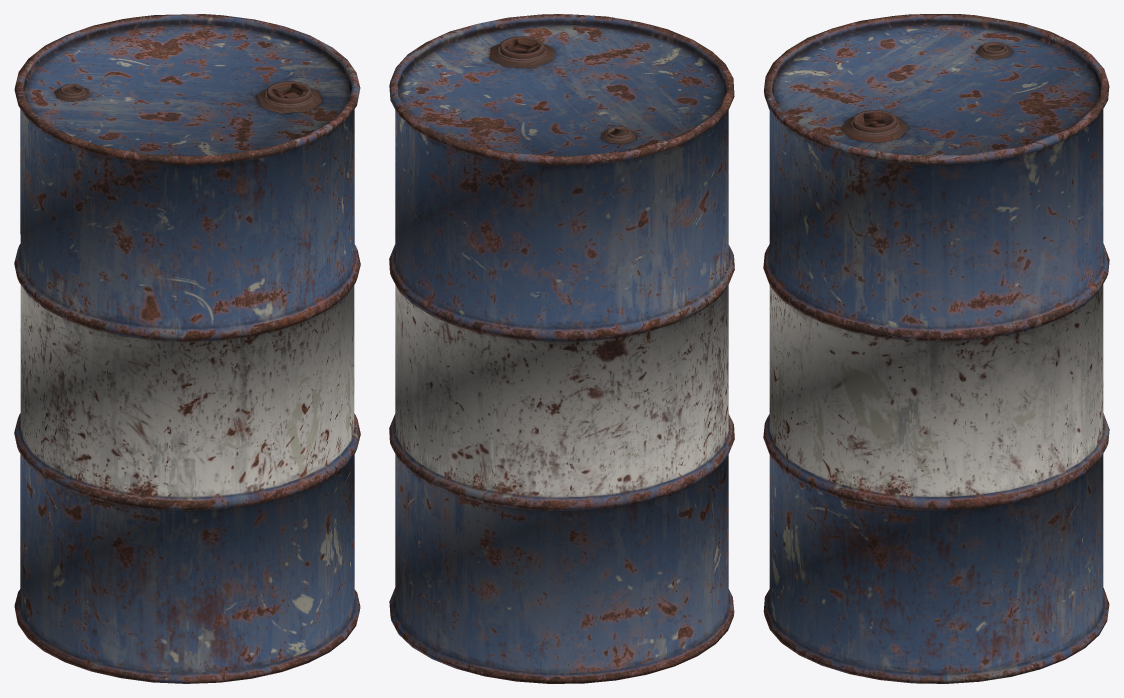
Rendered from ThungSatXanh.fbx.
3 renders of one model, left to right at view 1: azimuth 30°, elevation 25°; view 2: azimuth 150°, elevation 25°; view 3: azimuth 270°, elevation 25°, orthographic.
Parts seen in each view (by area): view 1: Barrel2_low; view 2: Barrel2_low; view 3: Barrel2_low.
Boxes of the visible parts, box(x1,y1,x2,y2) form: Barrel2_low: box(14, 14, 360, 683); Barrel2_low: box(389, 14, 734, 683); Barrel2_low: box(763, 14, 1109, 683).
Size of what is drawn, in the model's own units: 63.74 by 107 by 63.74.
